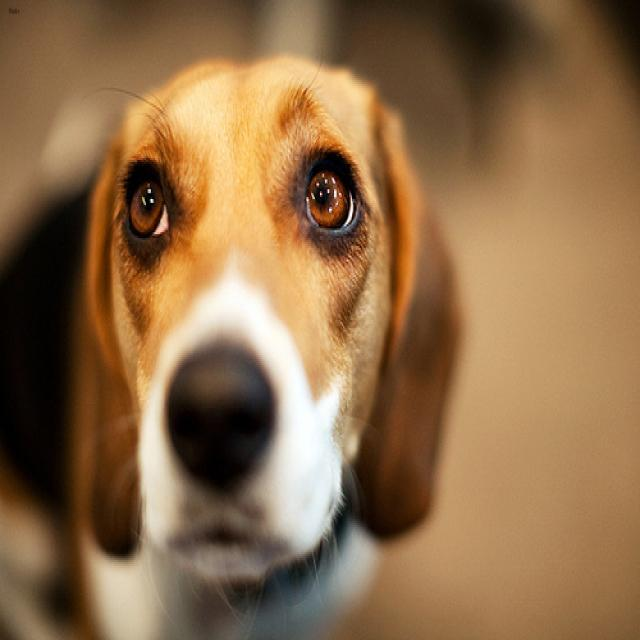dog-beagle: (1, 35, 468, 636)
